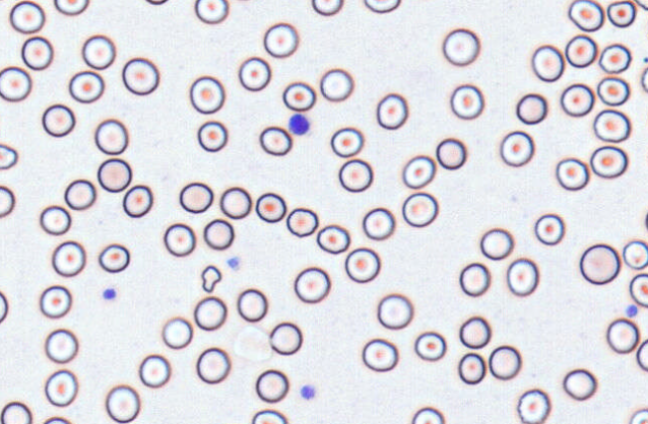PLT: (288, 113, 309, 134), (301, 386, 315, 400), (227, 256, 241, 269), (102, 289, 116, 301), (626, 306, 639, 317)
RBC: (579, 243, 620, 284), (121, 57, 159, 95), (442, 27, 479, 66), (293, 266, 330, 303), (105, 384, 140, 423), (189, 75, 224, 114), (376, 293, 413, 329), (195, 346, 230, 384), (344, 247, 380, 283), (361, 337, 398, 372), (401, 192, 438, 227), (499, 130, 534, 167), (44, 369, 78, 407), (589, 145, 628, 178), (263, 22, 298, 58), (51, 240, 85, 277), (94, 118, 128, 155), (593, 108, 630, 142), (531, 44, 564, 82), (506, 257, 538, 296), (97, 157, 132, 192), (516, 388, 550, 424), (193, 295, 227, 330), (44, 328, 78, 363), (401, 154, 435, 189), (338, 158, 373, 192), (81, 34, 115, 69), (488, 344, 521, 380), (606, 317, 639, 353), (68, 70, 104, 103), (450, 83, 483, 119), (567, 0, 604, 32), (376, 92, 408, 129), (268, 321, 302, 355), (41, 103, 75, 137), (319, 67, 353, 101), (560, 83, 594, 117), (138, 353, 171, 388), (562, 368, 597, 401), (255, 368, 288, 403), (9, 0, 44, 33), (238, 56, 271, 91), (458, 315, 491, 349), (479, 227, 513, 260), (564, 34, 597, 68), (555, 157, 589, 190), (0, 65, 31, 101), (362, 207, 395, 240), (21, 36, 53, 70), (163, 222, 195, 256), (39, 284, 71, 318), (179, 181, 213, 213), (236, 287, 267, 322), (161, 316, 193, 349), (219, 186, 251, 219), (459, 262, 490, 296), (64, 178, 96, 210), (515, 92, 547, 124), (122, 184, 153, 217), (435, 137, 466, 170), (598, 43, 631, 74), (330, 126, 363, 157), (316, 224, 350, 254), (39, 204, 71, 235), (203, 218, 234, 250), (533, 213, 564, 245), (413, 331, 446, 361), (259, 125, 292, 155), (596, 76, 629, 106), (282, 81, 315, 111), (286, 207, 318, 237), (197, 120, 227, 152), (255, 192, 286, 222), (457, 352, 486, 384), (98, 243, 129, 272), (194, 0, 228, 24), (606, 0, 636, 27), (622, 239, 648, 269), (0, 401, 32, 424), (629, 273, 648, 307), (410, 406, 444, 424), (251, 408, 287, 424), (53, 0, 89, 15), (0, 184, 15, 218), (363, 0, 400, 13), (311, 0, 343, 15), (0, 142, 17, 169), (636, 338, 648, 371), (628, 408, 648, 424), (41, 415, 72, 424), (0, 290, 8, 323), (641, 65, 648, 92), (143, 0, 169, 5), (644, 206, 648, 234), (228, 0, 259, 1)
Schistocyte: (201, 265, 223, 293)
